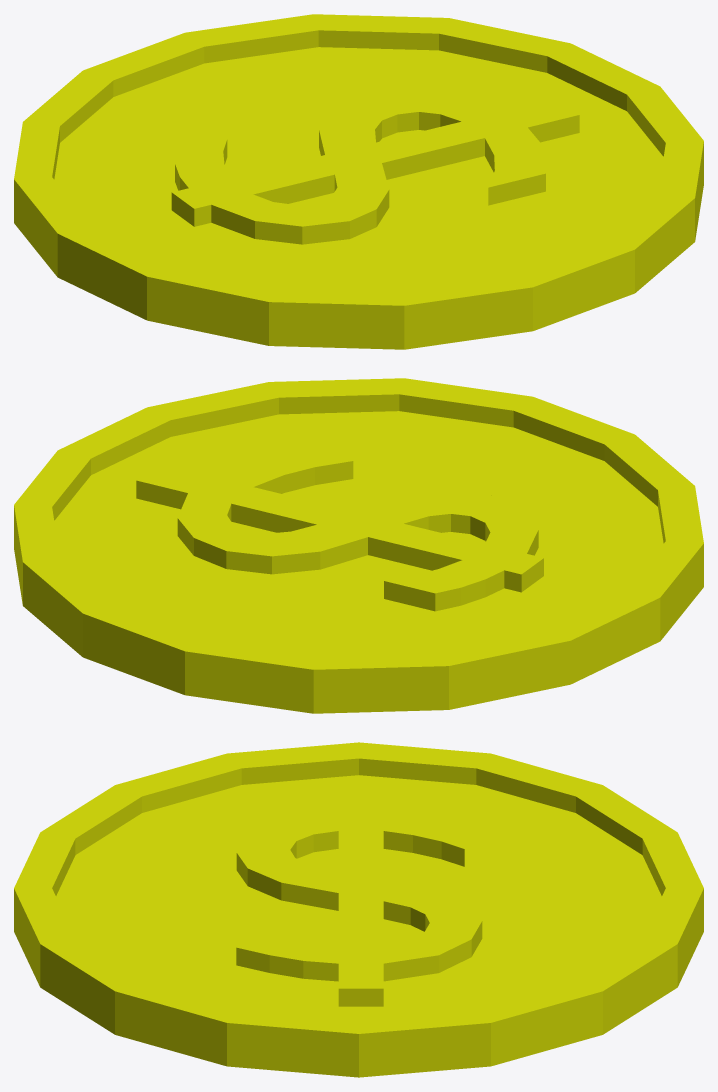
File: coin.fbx
The picture shows the model from 3 angles, top to bottom: view 1: azimuth 30°, elevation 25°; view 2: azimuth 150°, elevation 25°; view 3: azimuth 270°, elevation 25°; orthographic projection.
Visible parts, largest first — view 1: Coin Joined; view 2: Coin Joined; view 3: Coin Joined.
Part boxes in pixels (x1,y1,x2,y2): Coin Joined: (14, 14, 703, 349); Coin Joined: (14, 378, 703, 713); Coin Joined: (14, 742, 703, 1077).
Bounding box in the file's own units: 200 × 25.83 × 200.
